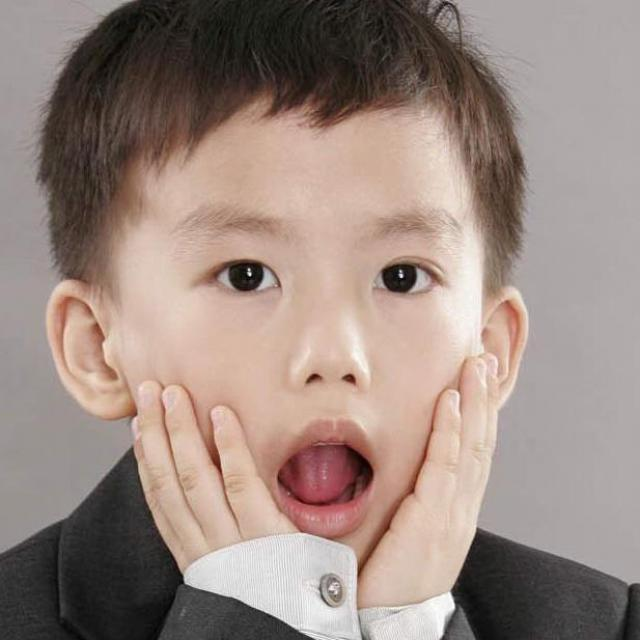surprised: (91, 100, 473, 591)
